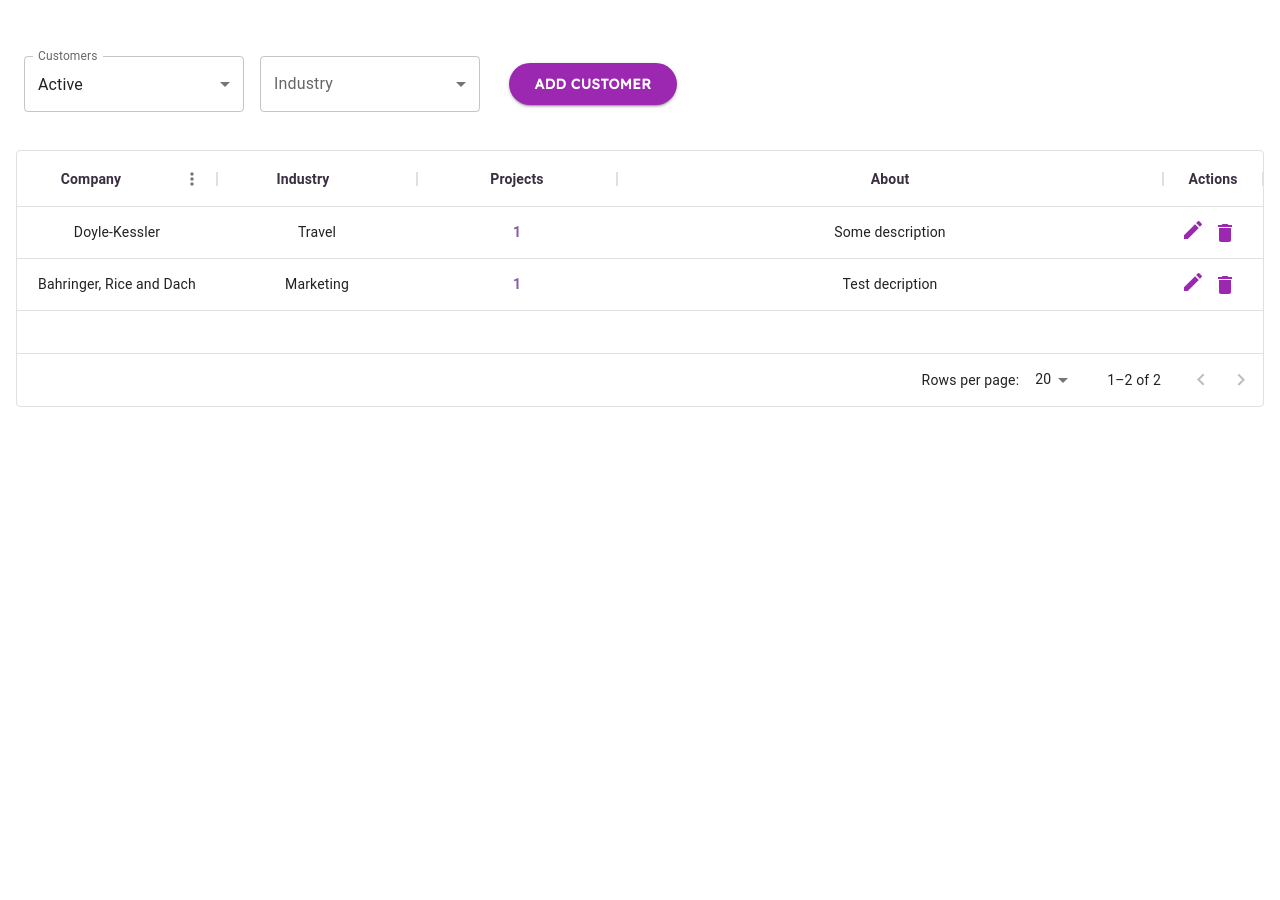
Test: Home Page › When the request to get the customers list is successful › Deleting an inactive customer › should display a dialog when the user clicks on the delete button to remove an inactive customer
The image size is (1280, 900).
Click the button named "delete" in the row of "Doyle-Kessler": [1225, 232] box [1205,212,1245,252]
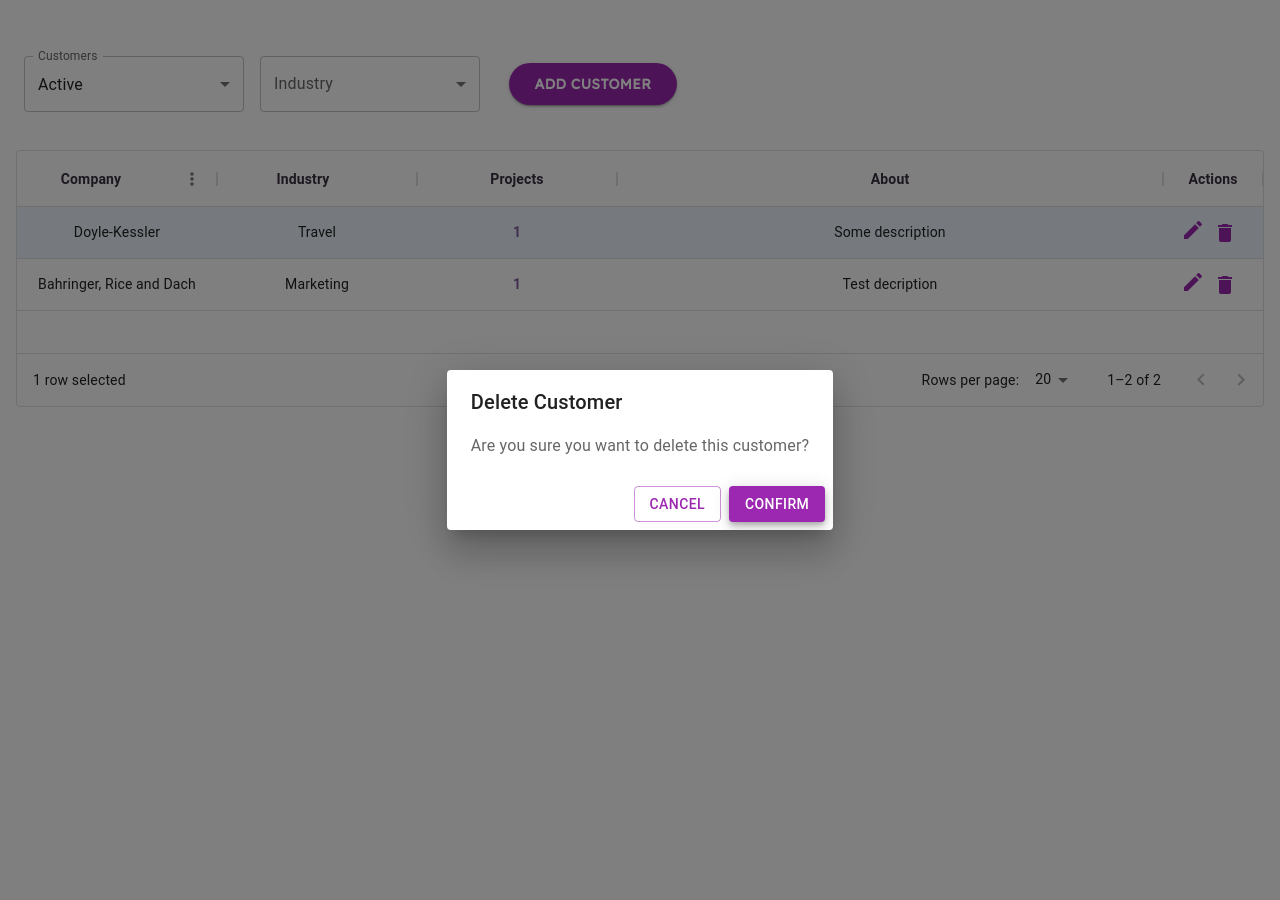
Expected: the text "Are you sure you want to delete this customer?" is shown, [471,434,809,458]
